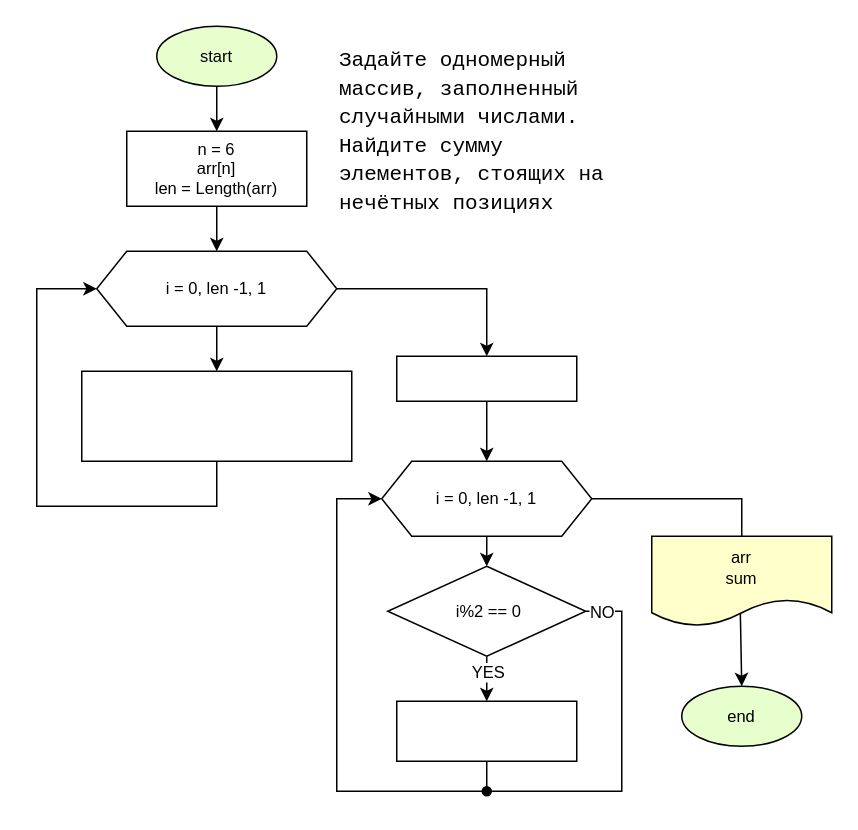
Image size: 858x830. Some labels were removed from this diagram. The shapes that lost their labels are listed below. From the top down, each one's box as (x1, y1, x2, y2) in pixels, then its label:
(395, 355, 577, 401): sum = 0
(80, 370, 352, 461): arr[i] = Random [10, 99]
(395, 700, 577, 761): sum = sum +1
